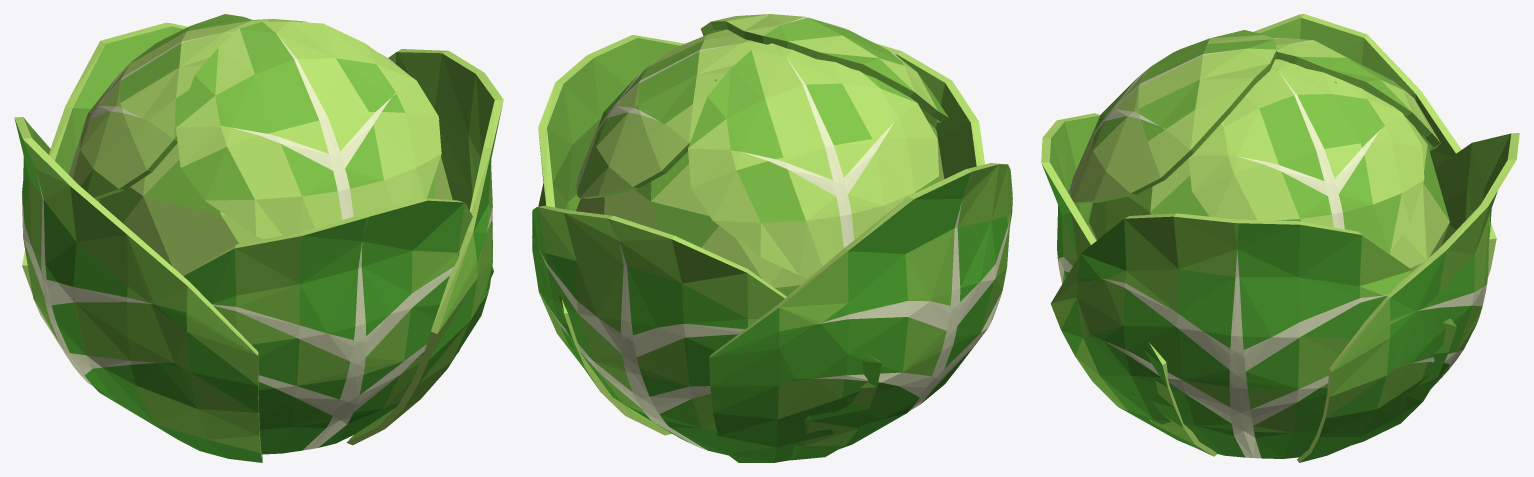
Rendered from FMS_Veg_Cabbage.fbx.
3 renders of one model, left to right at view 1: azimuth 30°, elevation 25°; view 2: azimuth 150°, elevation 25°; view 3: azimuth 270°, elevation 25°, orthographic. The views are drawn at different scales.
Visible parts, largest first — view 1: Cabbage; view 2: Cabbage; view 3: Cabbage.
Boxes of the visible parts, <box> form: Cabbage: <box>14,14,503,462</box>; Cabbage: <box>532,14,1012,462</box>; Cabbage: <box>1041,14,1519,462</box>.
Bounding box in the file's own units: 0.2086 × 0.179 × 0.2116.
